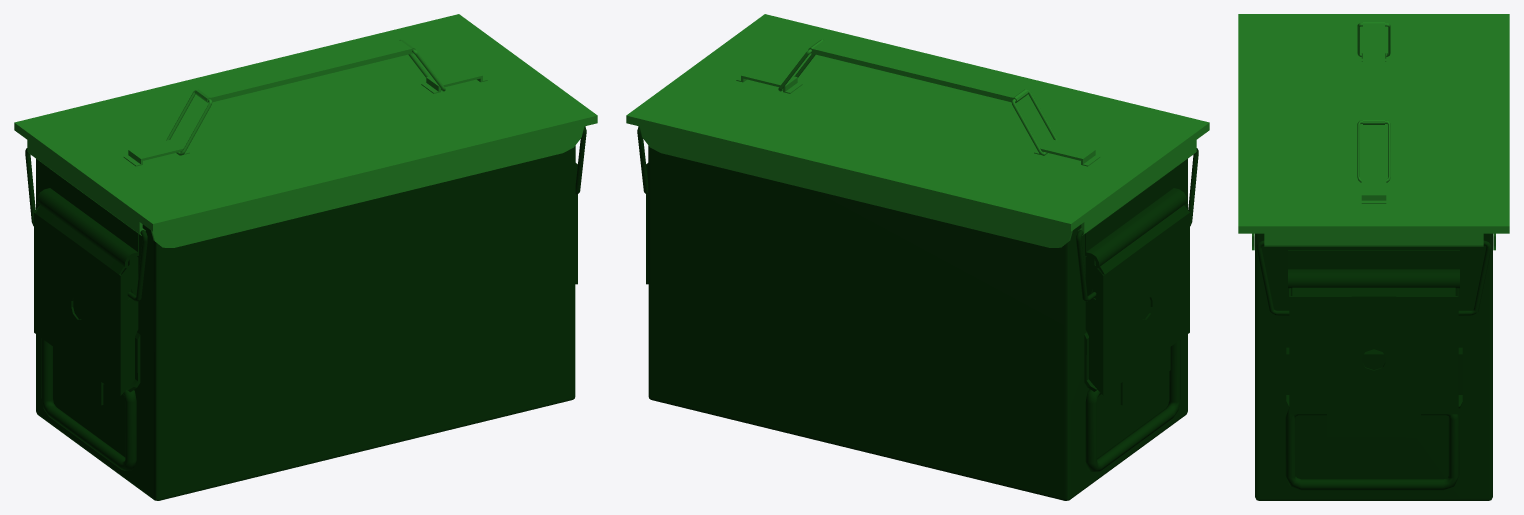
The picture shows the model from 3 angles, left to right: view 1: azimuth 30°, elevation 25°; view 2: azimuth 150°, elevation 25°; view 3: azimuth 270°, elevation 25°; orthographic projection. The views are drawn at different scales.
Visible parts, largest first — view 1: pCube2, pCube18, pCube13; view 2: pCube2, pCube18, pCube13; view 3: pCube18, pCube13, pCube2.
Boxes of the visible parts, box(x1,y1,x2,y2) form: pCube2: box(36, 145, 575, 500); pCube18: box(14, 14, 597, 247); pCube13: box(25, 126, 586, 470); pCube2: box(648, 145, 1187, 500); pCube18: box(626, 14, 1209, 247); pCube13: box(637, 126, 1198, 471); pCube18: box(1238, 14, 1509, 250); pCube13: box(1256, 240, 1491, 490); pCube2: box(1255, 233, 1492, 500).
Size of the model in its own units: 2 by 1.42 by 1.05.
